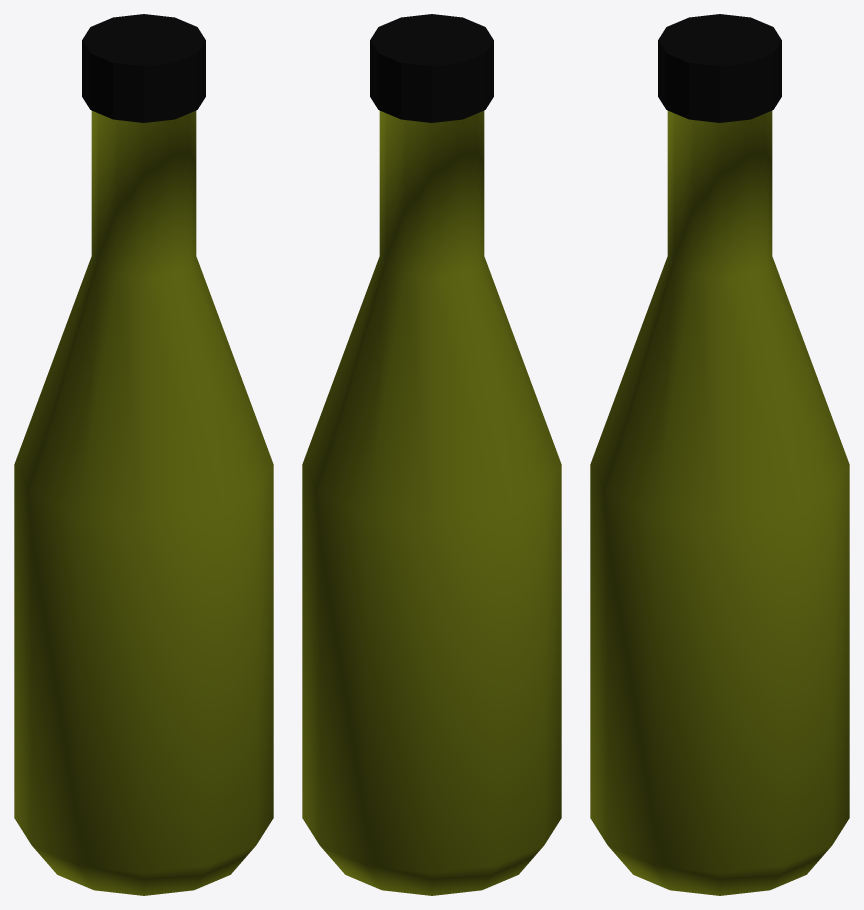
Rendered from Glass_Bottle_2.fbx.
3 views of the same model, side by side, from view 1: azimuth 30°, elevation 25°; view 2: azimuth 150°, elevation 25°; view 3: azimuth 270°, elevation 25° (orthographic).
Parts seen in each view (by area): view 1: Cylinder.025; view 2: Cylinder.025; view 3: Cylinder.025.
Part boxes in pixels (x1,y1,x2,y2): Cylinder.025: (14, 14, 273, 895); Cylinder.025: (302, 14, 561, 895); Cylinder.025: (590, 14, 849, 895).
Bounding box in the file's own units: 9.33 × 32.26 × 9.33.
